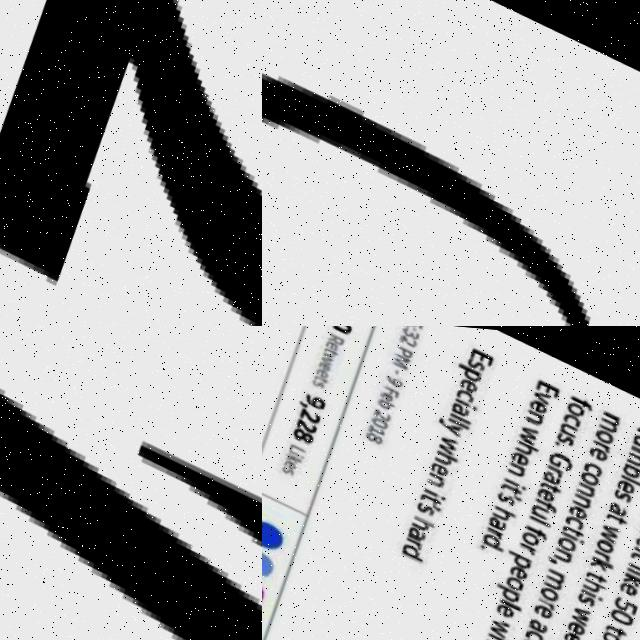0: (262, 0, 640, 326), (603, 597, 630, 619), (367, 410, 387, 426), (327, 326, 351, 331)
1: (366, 419, 383, 432)
2: (0, 0, 262, 326), (291, 411, 315, 432), (296, 403, 319, 421), (370, 403, 389, 417), (399, 328, 415, 342)
3: (400, 326, 418, 333)
5: (607, 584, 634, 607)
8: (289, 422, 311, 441), (362, 426, 381, 440)
9: (300, 387, 324, 408), (382, 367, 402, 383)
Z: (0, 326, 262, 640)
